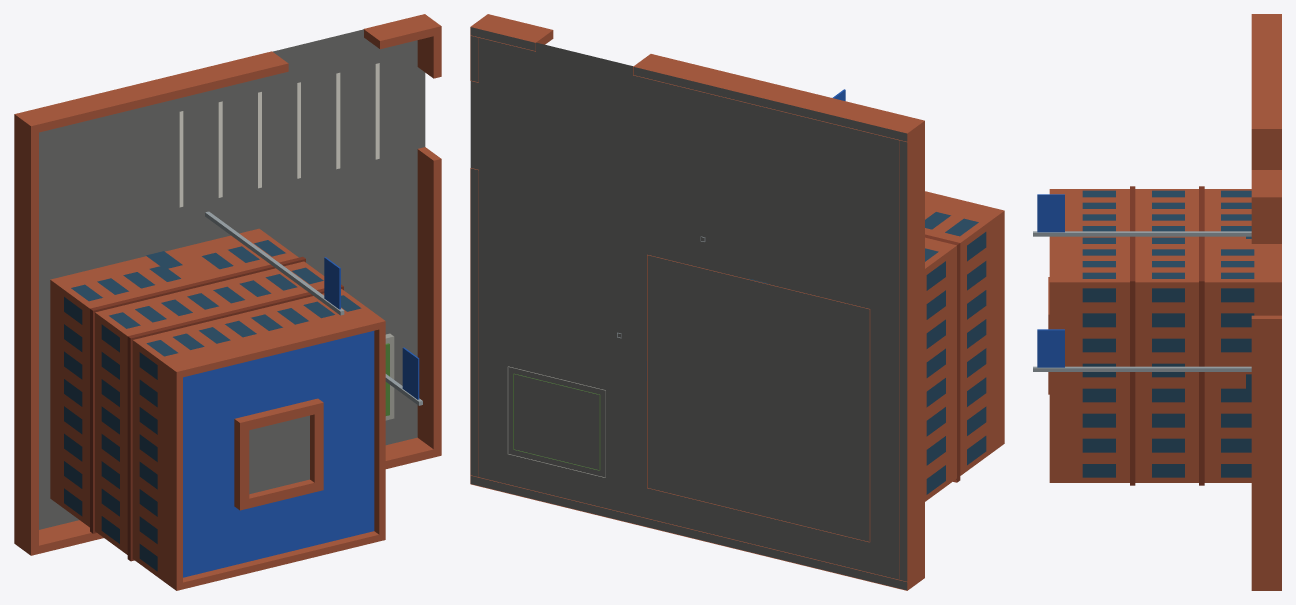
3 renders of one model, left to right at view 1: azimuth 30°, elevation 25°; view 2: azimuth 150°, elevation 25°; view 3: azimuth 270°, elevation 25°, orthographic. The views are drawn at different scales.
Parts seen in each view (by area): view 1: object_hq_large; view 2: object_hq_large; view 3: object_hq_large.
Boxes of the visible parts, left/top/right/bottom form: object_hq_large: left=14, top=14, right=441, bottom=590; object_hq_large: left=470, top=14, right=1004, bottom=590; object_hq_large: left=1033, top=14, right=1281, bottom=590.
Size of the model in its own units: 31.4 by 31.4 by 18.
